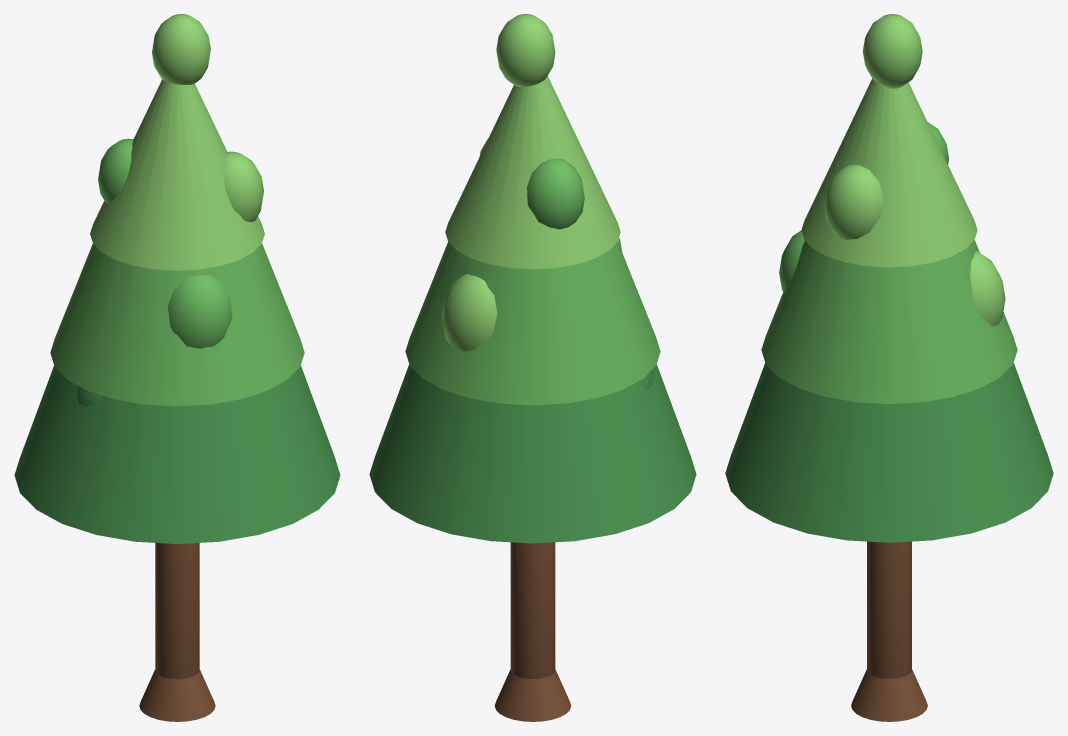
Rendered from tree_tall.glb.
3 renders of one model, left to right at view 1: azimuth 30°, elevation 25°; view 2: azimuth 150°, elevation 25°; view 3: azimuth 270°, elevation 25°, orthographic.
Parts seen in each view (by area): view 1: tree_tall; view 2: tree_tall; view 3: tree_tall.
Boxes of the visible parts, x1,y1,x2,y2 form: tree_tall: (14, 14, 340, 721); tree_tall: (369, 14, 696, 721); tree_tall: (725, 14, 1053, 721).
Bounding box in the file's own units: 4.1 × 9.54 × 4.1.
